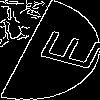E: (25, 25, 100, 72)
